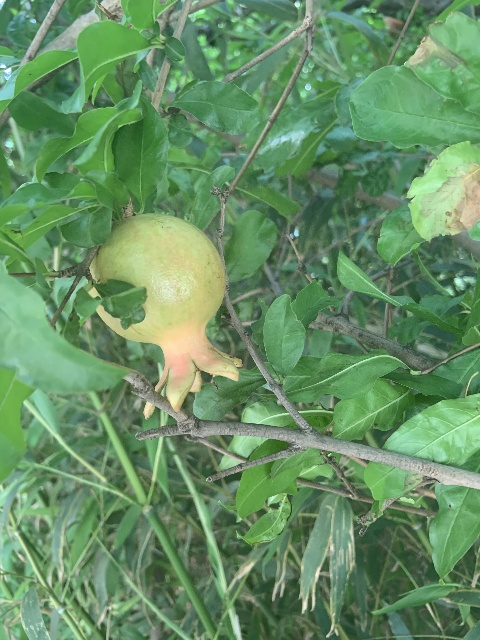mid-growth: (89, 213, 243, 419)
